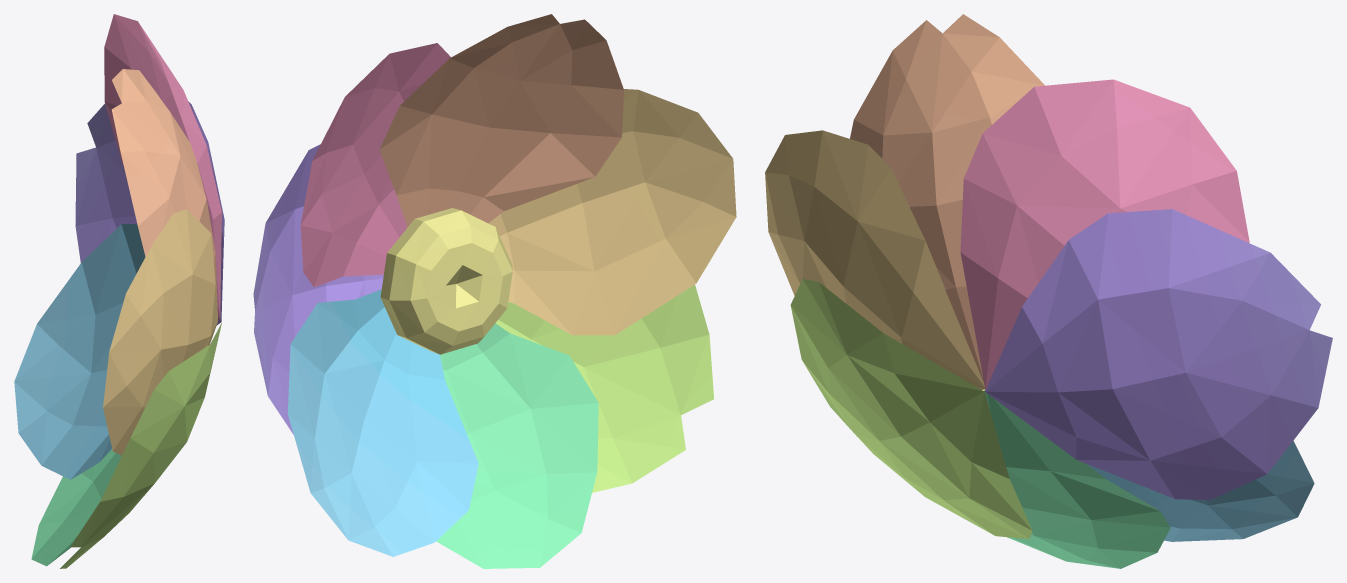
File: CharSkyKid_Horn_RainbowPoppy_01.glb
3 renders of one model, left to right at view 1: azimuth 30°, elevation 25°; view 2: azimuth 150°, elevation 25°; view 3: azimuth 270°, elevation 25°, orthographic. The views are drawn at different scales.
Visible parts, largest first — view 1: CharSkyKid_Horn_RainbowPoppy_01; view 2: CharSkyKid_Horn_RainbowPoppy_01; view 3: CharSkyKid_Horn_RainbowPoppy_01.
Boxes of the visible parts, x1,y1,x2,y2 form: CharSkyKid_Horn_RainbowPoppy_01: (14,14,224,568); CharSkyKid_Horn_RainbowPoppy_01: (253,14,736,568); CharSkyKid_Horn_RainbowPoppy_01: (765,14,1332,568).
Size of the model in its own units: 0.5936 by 1.09 by 0.9901.
Materials: 1 (1 with a texture image).
